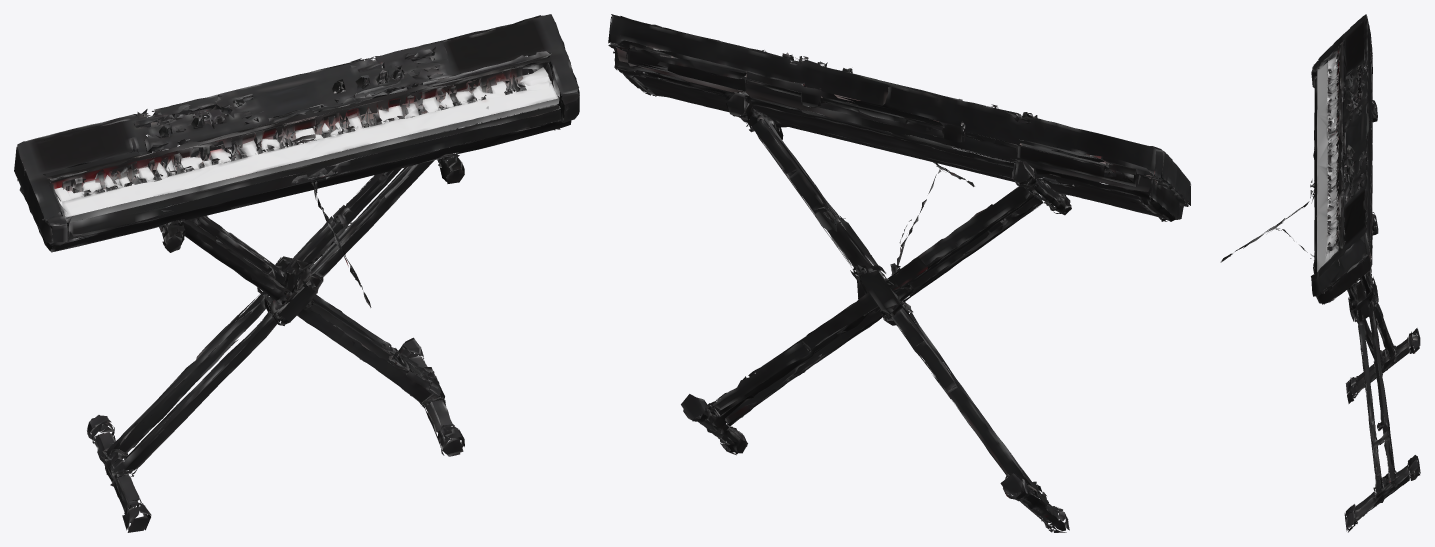
The model's file is keyboard.glb.
The picture shows the model from 3 angles, left to right: view 1: azimuth 30°, elevation 25°; view 2: azimuth 150°, elevation 25°; view 3: azimuth 270°, elevation 25°; orthographic projection. The views are drawn at different scales.
Visible parts, largest first — view 1: Mesh_0; view 2: Mesh_0; view 3: Mesh_0.
Part boxes in pixels (x1=…): Mesh_0: x1=14, y1=14, x2=579, y2=532; Mesh_0: x1=608, y1=14, x2=1190, y2=532; Mesh_0: x1=1220, y1=14, x2=1420, y2=532.
Bounding box in the file's own units: 1.3 × 0.9498 × 0.4994.
Materials: 1 (1 with a texture image).
